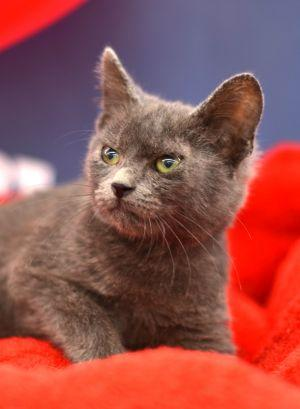rblue: (63, 42, 279, 270)
